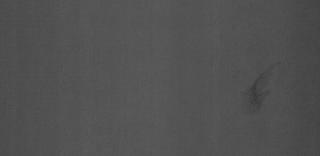water spot: (235, 56, 282, 118)
